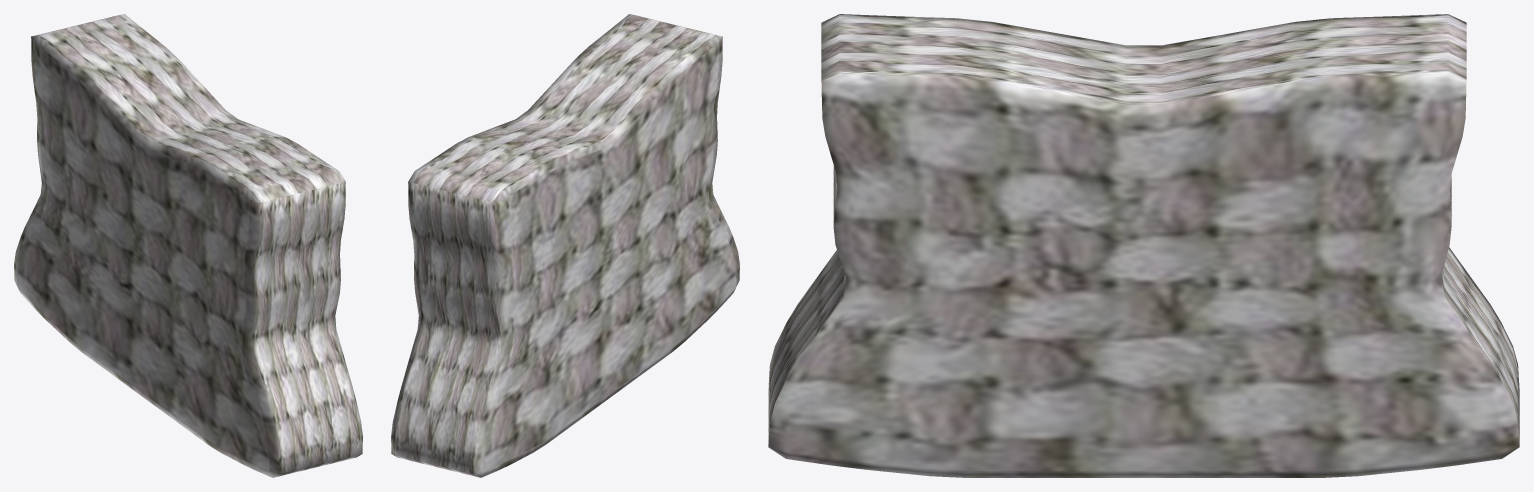
Rendered from pillow.fbx.
3 renders of one model, left to right at view 1: azimuth 30°, elevation 25°; view 2: azimuth 150°, elevation 25°; view 3: azimuth 270°, elevation 25°, orthographic. The views are drawn at different scales.
Visible parts, largest first — view 1: Cube; view 2: Cube; view 3: Cube.
Part boxes in pixels (x1=…): Cube: x1=14, y1=14, x2=362, y2=477; Cube: x1=391, y1=14, x2=739, y2=477; Cube: x1=768, y1=14, x2=1519, y2=477.
Bounding box in the file's own units: 119 × 352 × 594.
Materials: 1 (1 with a texture image).
